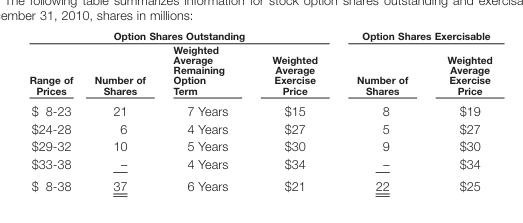table: (28, 29, 491, 192)
table column: (158, 29, 249, 192), (336, 29, 426, 192), (249, 29, 336, 192), (83, 29, 158, 192), (426, 29, 491, 192), (28, 29, 83, 192)
table column header: (28, 29, 491, 99)
table row: (28, 42, 491, 99), (28, 99, 491, 119), (28, 154, 491, 174), (28, 136, 491, 154), (28, 174, 491, 192), (28, 119, 491, 136), (28, 29, 491, 42)
table spanning cell: (28, 29, 336, 42), (336, 29, 491, 42)
